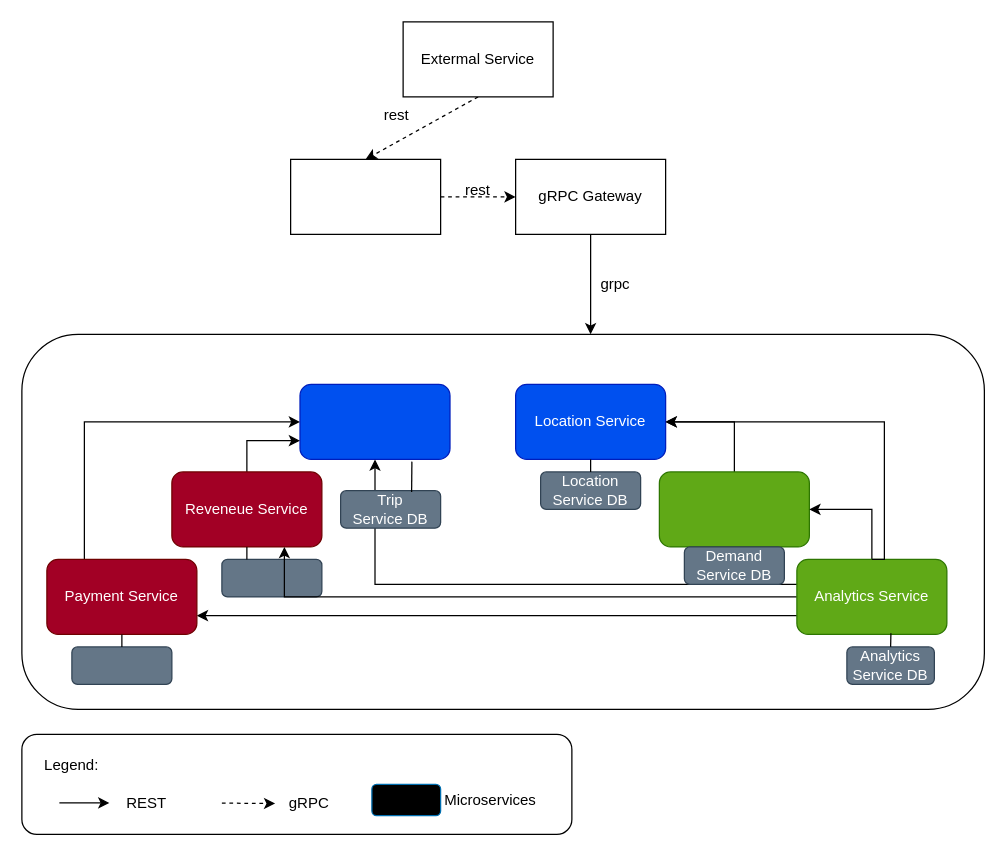
The diagram is 1006 pixels wide and 856 high, and some of its shapes have lost their labels. The shapes that lost their labels are listed below. From the top down, each one's centre as x and y in pixels, then its label:
At point (365, 196): "API Getaway".
At point (374, 421): "Trip Service".
At point (733, 509): "Demand Service".
At point (271, 577): "Reveneue Service DB".
At point (121, 665): "Payment Service DB".
